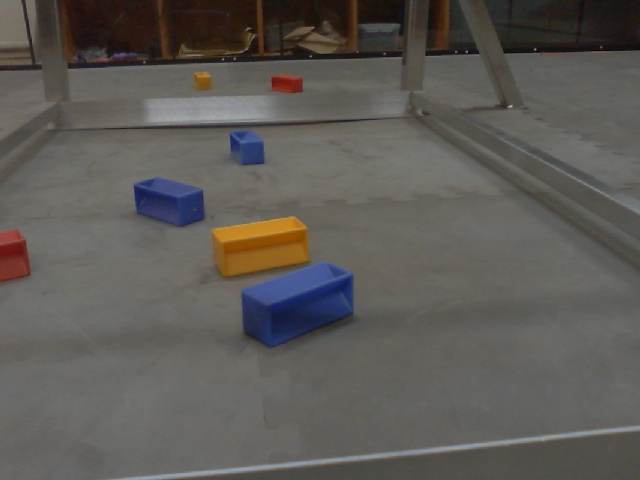BlueSample: (239, 259, 357, 349), (130, 171, 207, 229), (228, 126, 267, 168)
RedSample: (1, 226, 33, 286), (269, 73, 305, 95)
YellowSample: (212, 213, 310, 274), (193, 71, 213, 91)
